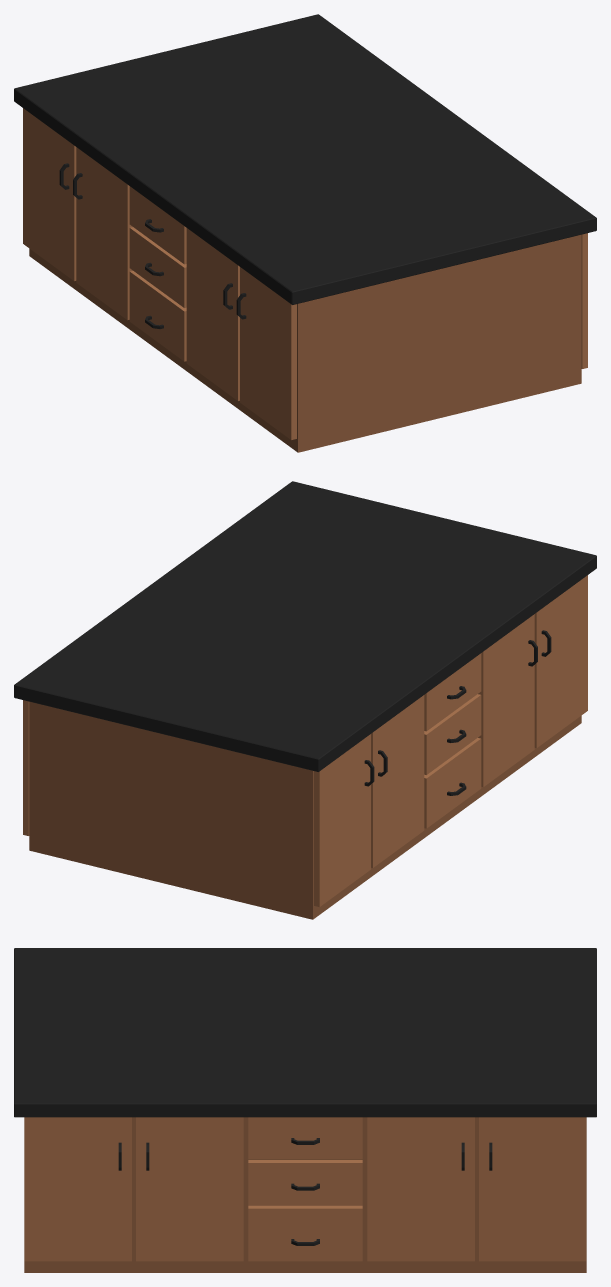
Rendered from lab_island.fbx.
The picture shows the model from 3 angles, top to bottom: view 1: azimuth 30°, elevation 25°; view 2: azimuth 150°, elevation 25°; view 3: azimuth 270°, elevation 25°; orthographic projection. The views are drawn at different scales.
Visible parts, largest first — view 1: lab_island; view 2: lab_island; view 3: lab_island.
Part boxes in pixels (<box>): lab_island: <box>14,14,596,452</box>; lab_island: <box>14,481,596,919</box>; lab_island: <box>14,948,596,1272</box>.
Bounding box in the file's own units: 247 × 126 × 380.
